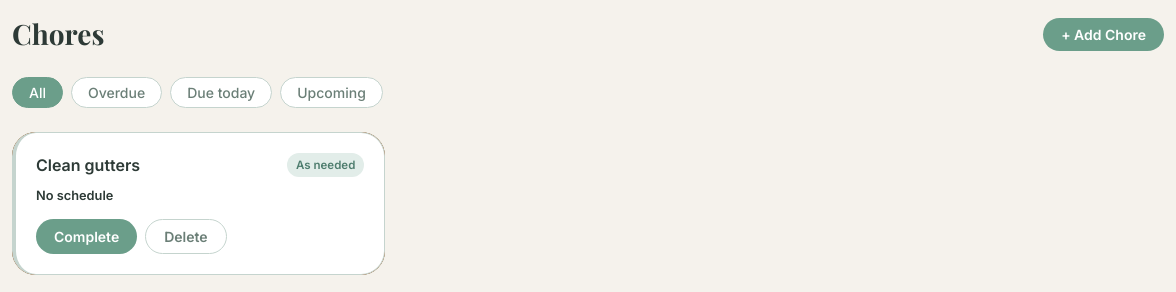
Test: Chores › filter tabs › hides As-needed chore under Due today tab
expect the text "Clean gutters" is shown: met, box [36, 153, 140, 178]
Click the button "Due today": (221, 92) [170, 77, 272, 108]
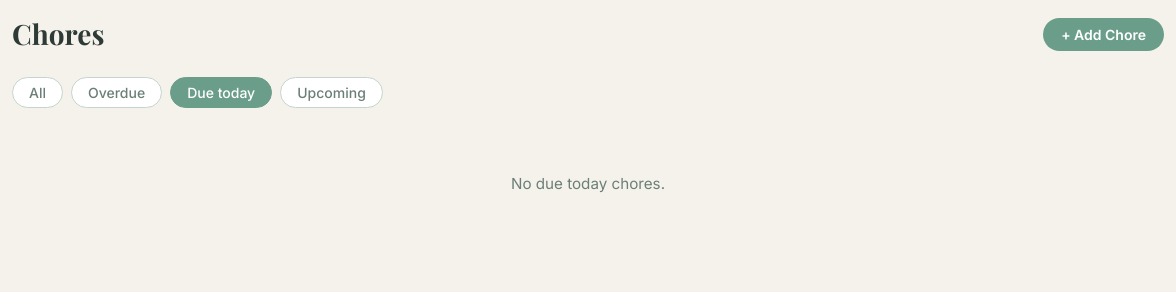
expect the text "Clean gutters" is gone: met
